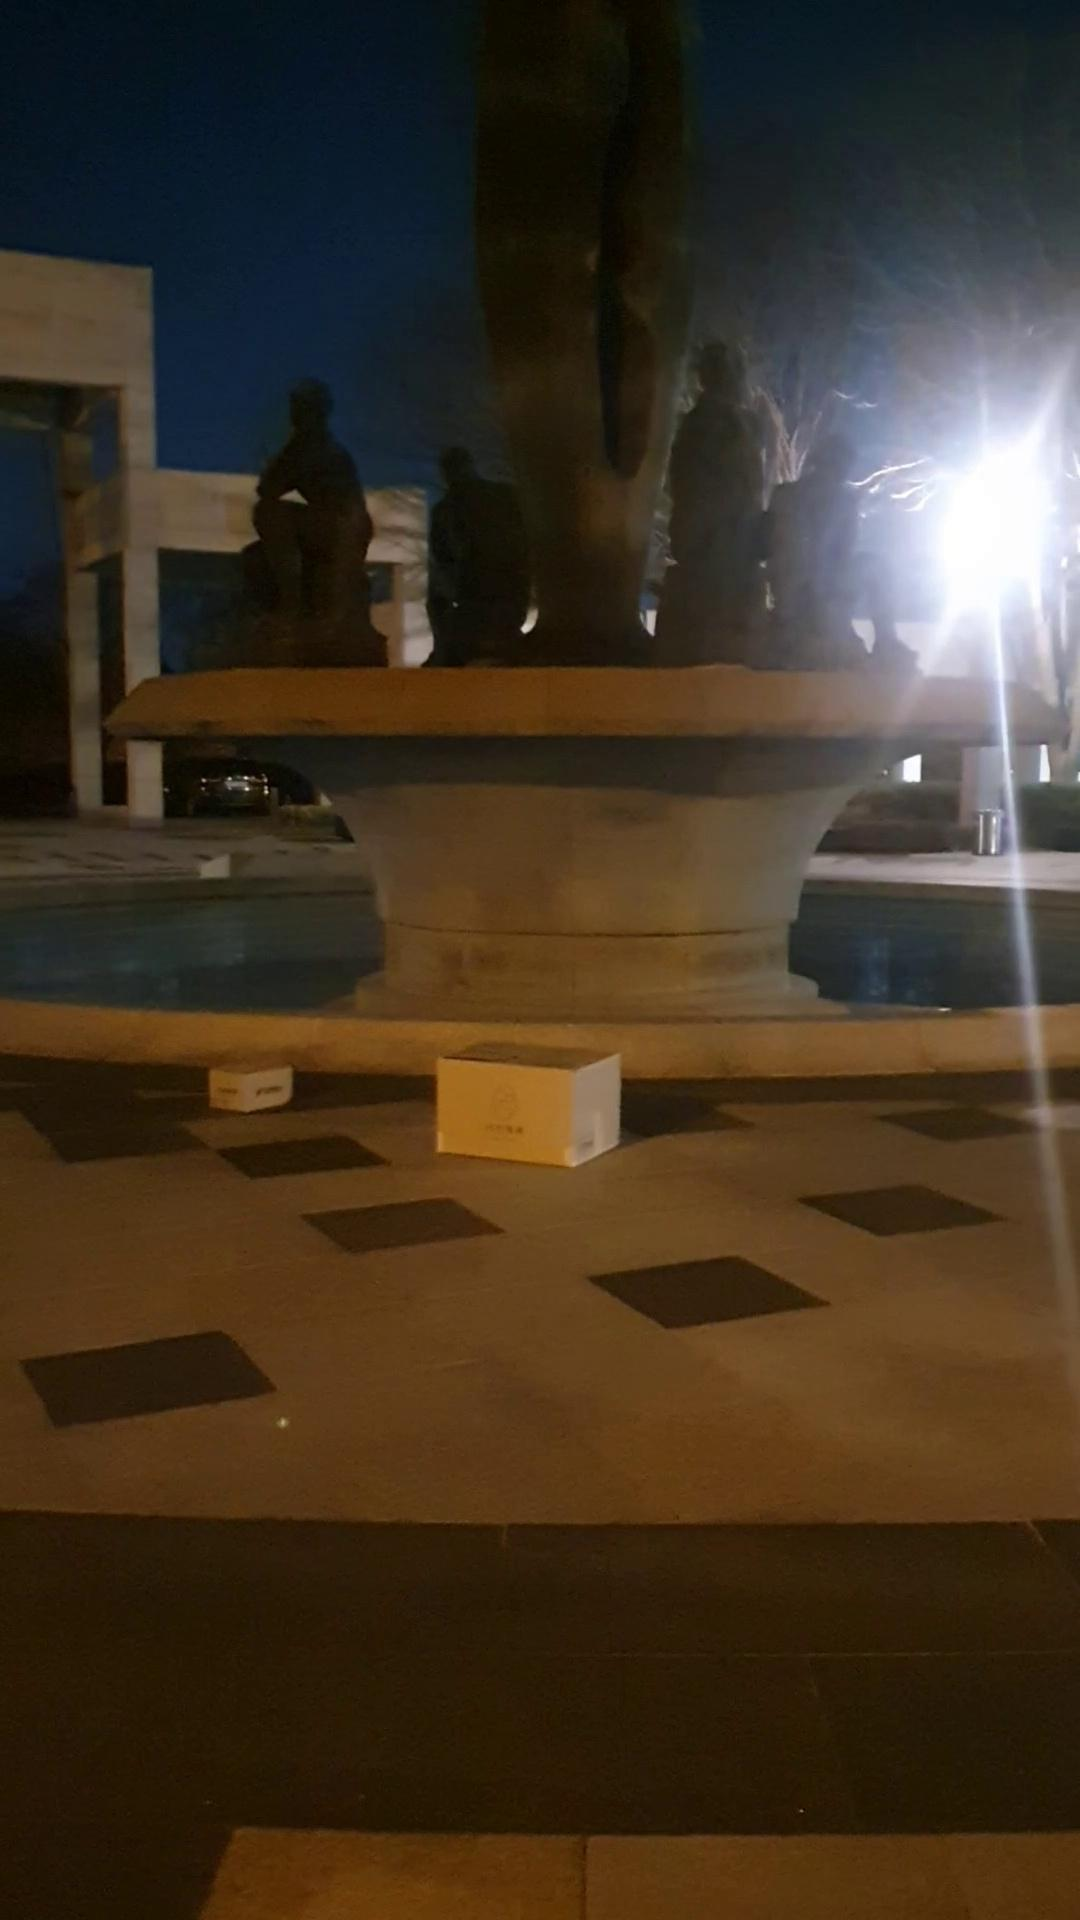Box: (421, 1033, 640, 1174), (206, 1029, 305, 1116)
